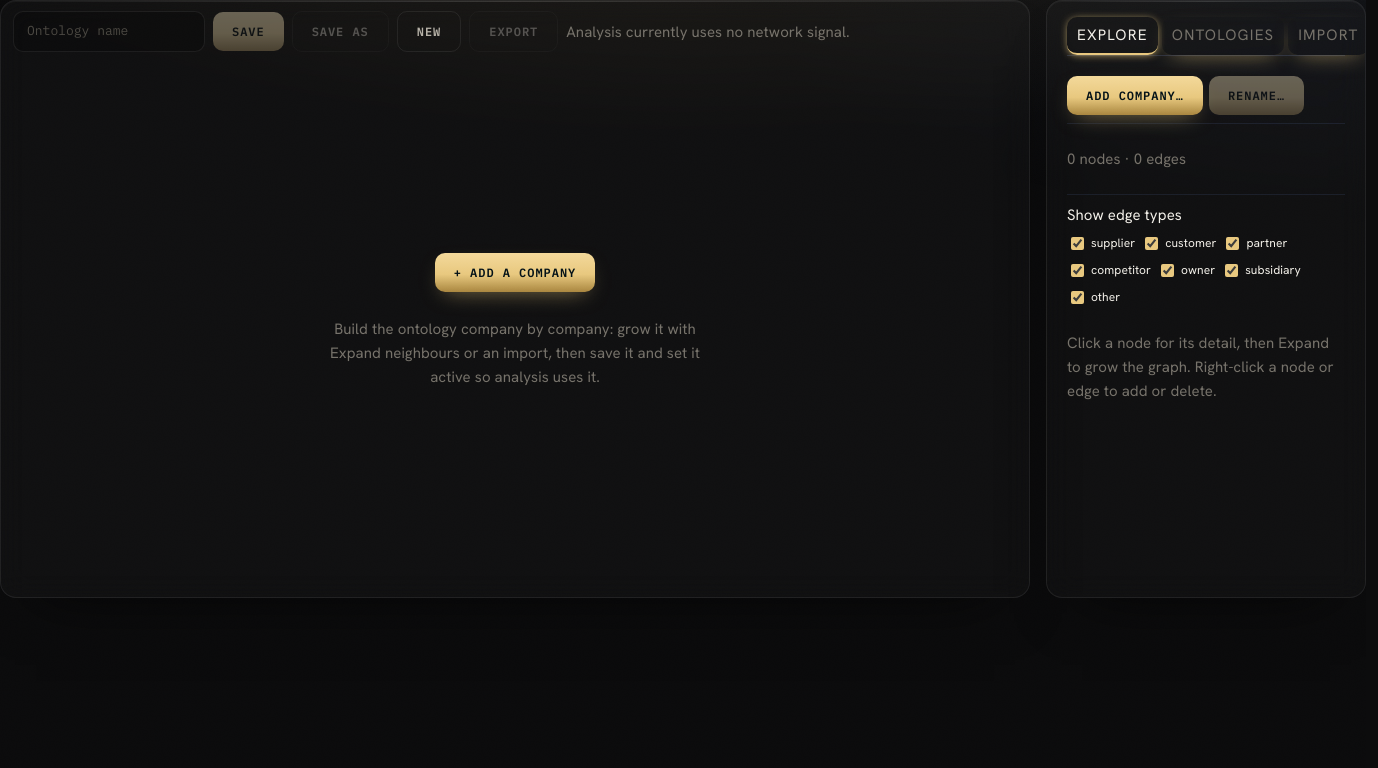
Test case: shows the empty-state CTA and opens the add-company form
Click the button "+ Add a company".
click(515, 273)  # box top-left (435, 253), bottom-right (595, 292)
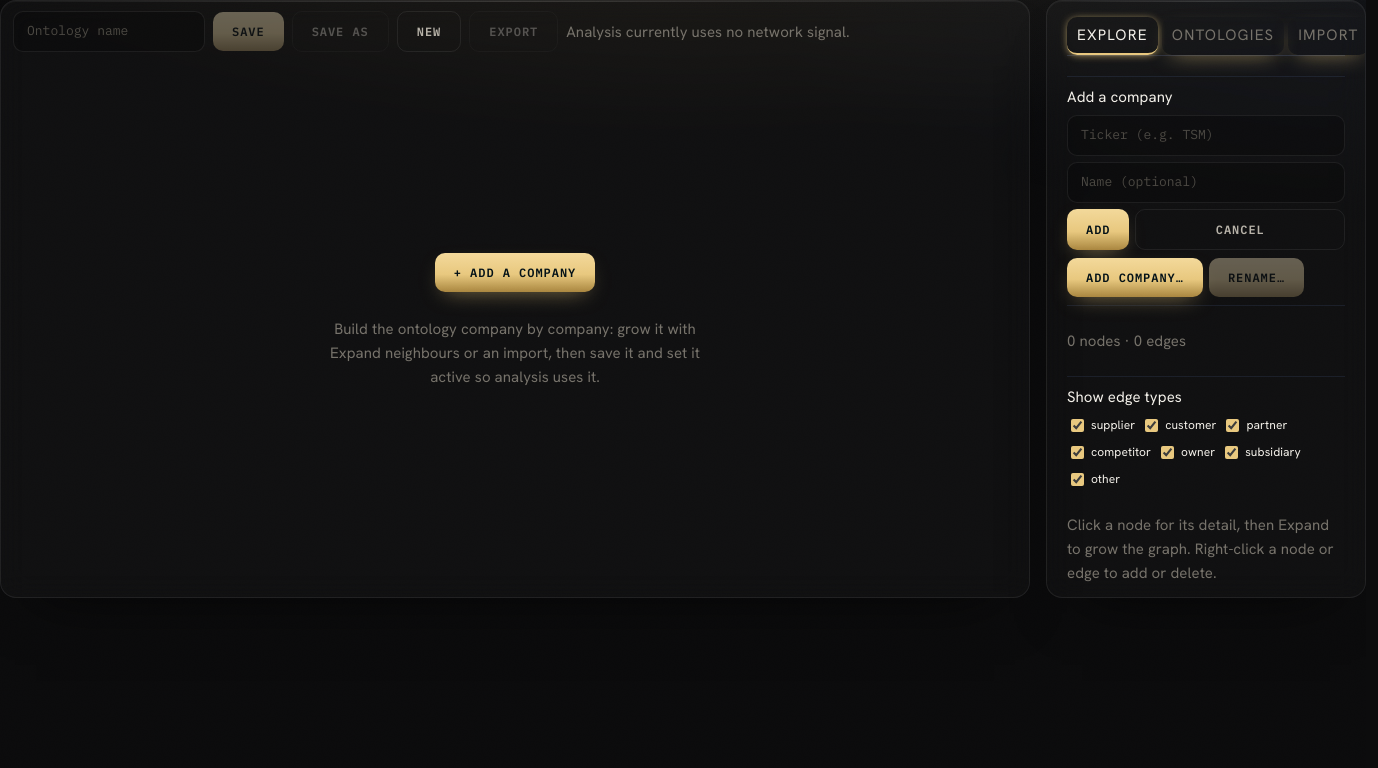
expect the field with placeholder "Ticker (e.g. TSM)" is shown: met, box top-left (1067, 115), bottom-right (1345, 156)
